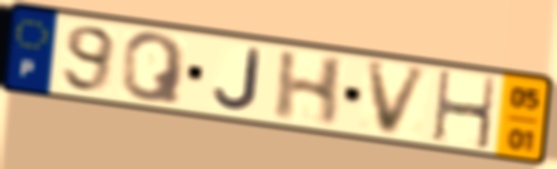9: (60, 23, 119, 94)
H: (270, 49, 349, 129), (430, 68, 499, 153)
J: (211, 46, 264, 114)
Q: (119, 30, 189, 108)
V: (363, 60, 434, 138)
